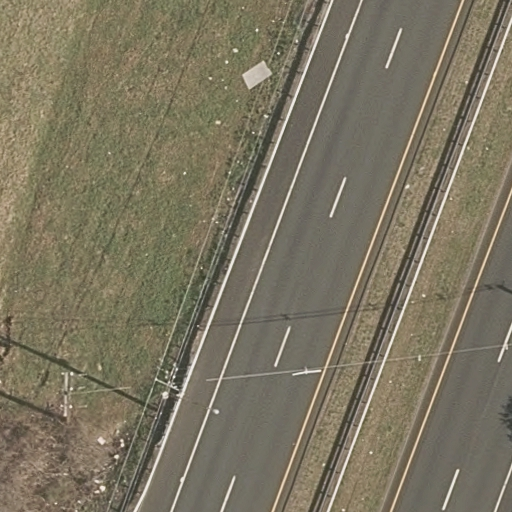DT: (48, 365, 136, 427), (145, 356, 193, 412)
